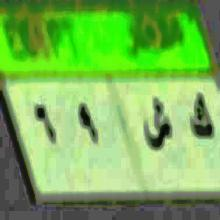6: (32, 100, 61, 156)
9: (75, 96, 104, 149)
kaaf: (188, 88, 214, 158)
sheen: (144, 86, 174, 166)
